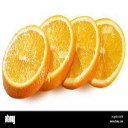orange: (2, 25, 53, 100)
